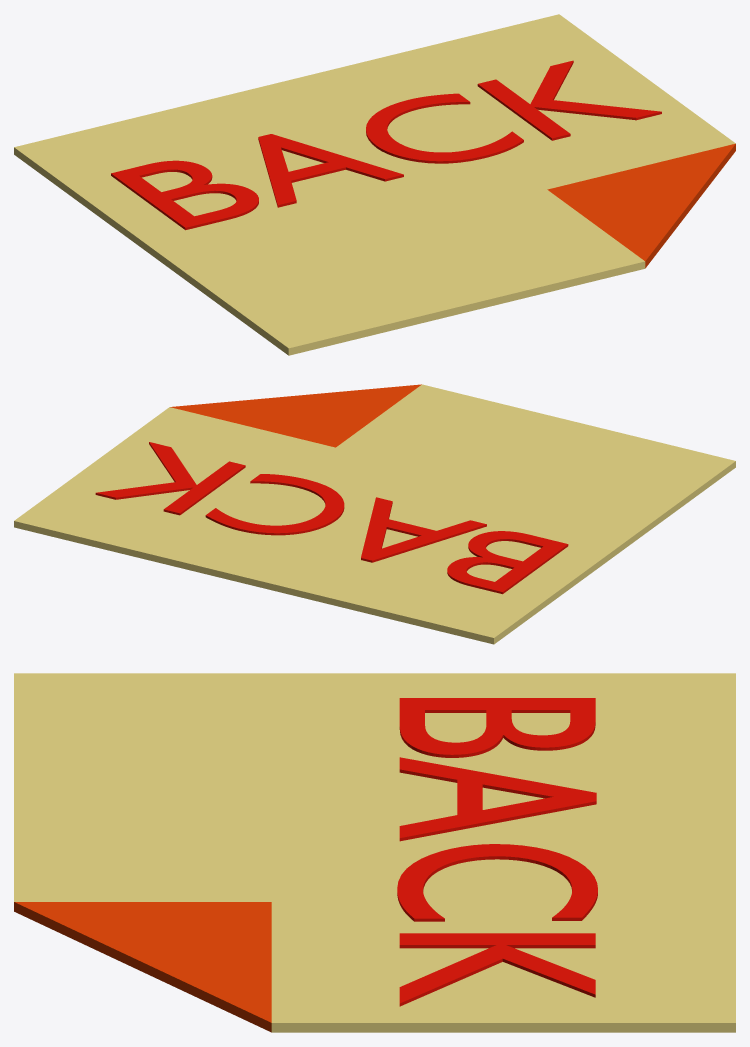
File: POSTIT.fbx
3 views of the same model, one above another, from view 1: azimuth 30°, elevation 25°; view 2: azimuth 150°, elevation 25°; view 3: azimuth 270°, elevation 25° (orthographic). The views are drawn at different scales.
Parts seen in each view (by area): view 1: Cube.001; view 2: Cube.001; view 3: Cube.001.
Boxes of the visible parts, x1,y1,x2,y2 form: Cube.001: (14,14,735,355); Cube.001: (14,384,735,644); Cube.001: (14,673,735,1032).
Size of the model in its own units: 48.36 by 0.8295 by 42.21.
